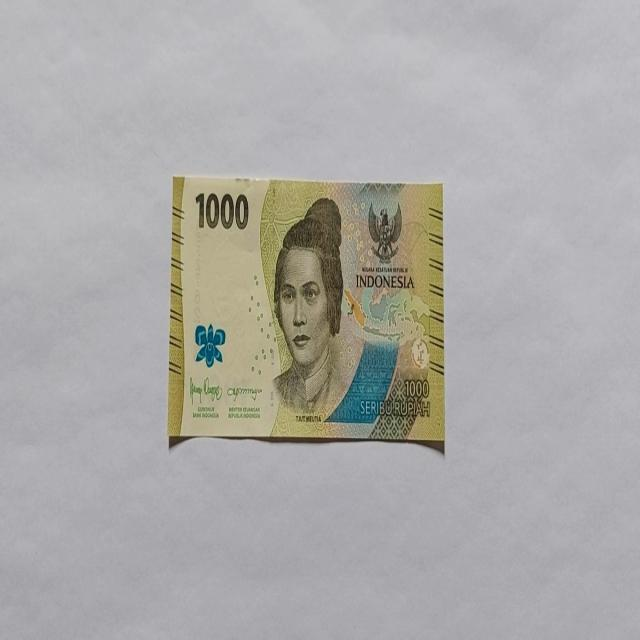seribu rupiah kertas: (168, 174, 444, 446)
